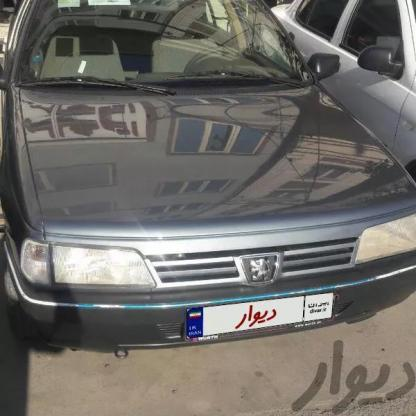Car: (0, 0, 416, 358), (281, 0, 416, 186)
